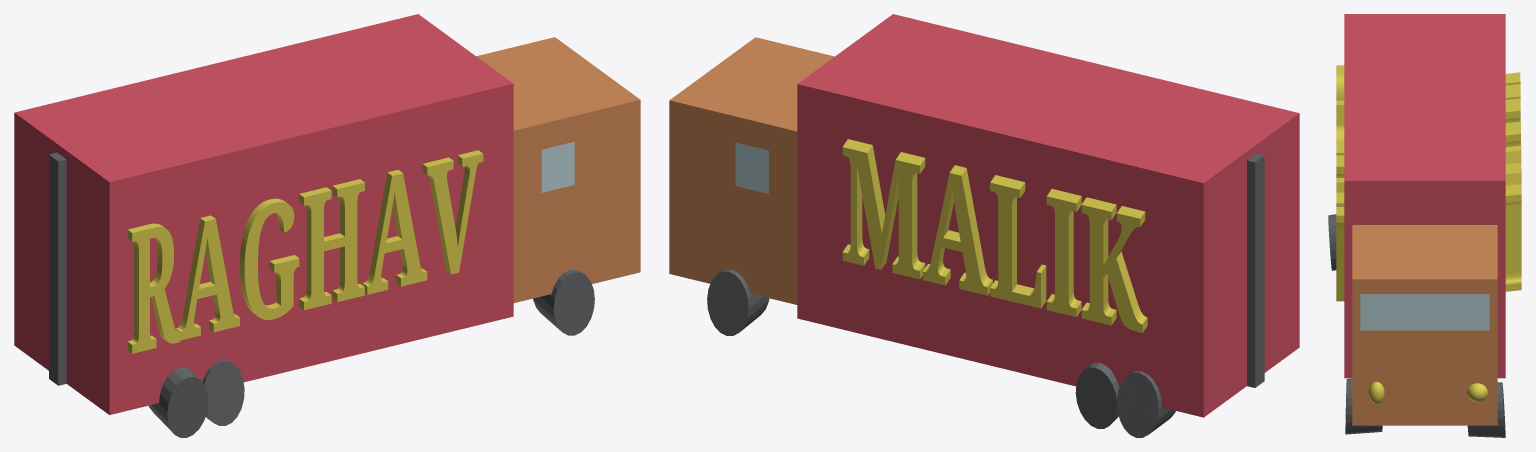
File: Tremendous Allis-Esboo.glb
3 views of the same model, side by side, from view 1: azimuth 30°, elevation 25°; view 2: azimuth 150°, elevation 25°; view 3: azimuth 270°, elevation 25° (orthographic). The views are drawn at different scales.
Parts seen in each view (by area): view 1: Mesh_Mesh_head_geo.001_lambert2SG.001; view 2: Mesh_Mesh_head_geo.001_lambert2SG.001; view 3: Mesh_Mesh_head_geo.001_lambert2SG.001.
Boxes of the visible parts, x1,y1,x2,y2 form: Mesh_Mesh_head_geo.001_lambert2SG.001: (14,14,640,437); Mesh_Mesh_head_geo.001_lambert2SG.001: (669,14,1299,437); Mesh_Mesh_head_geo.001_lambert2SG.001: (1328,14,1521,437).
Bounding box in the file's own units: 67 × 31 × 24.
